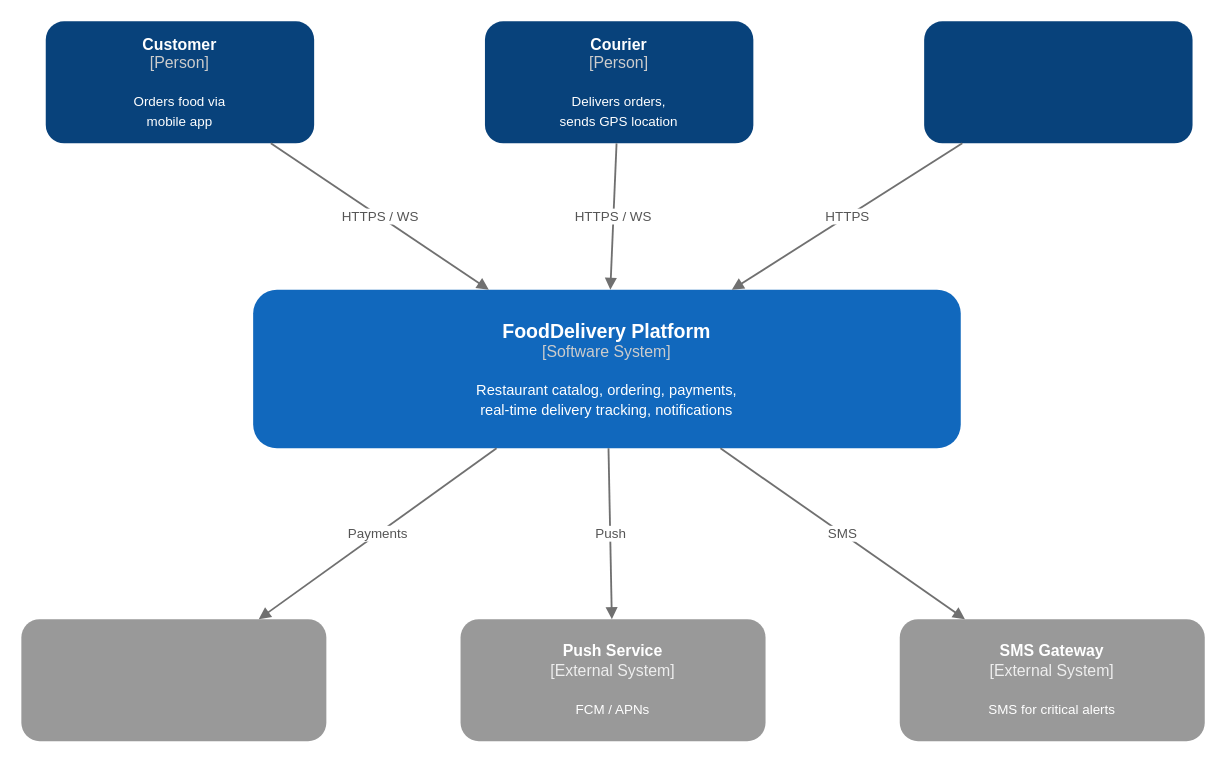
Image size: 1225x761. Some labels were removed from this diagram. The centre of each missing label's shape, as x and y in pixels:
"Payment Provider [External System] Card & SBP processing" belongs at pixel 173 680.
"Restaurant [Person] Manages menu, prepares orders" belongs at pixel 1058 82.
